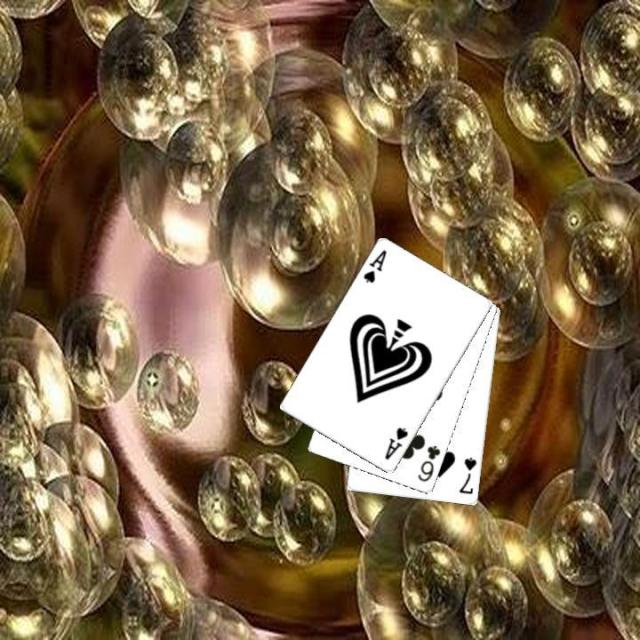6C: (414, 442, 443, 484)
7S: (455, 453, 478, 496)
AS: (359, 247, 389, 286), (380, 424, 410, 462)
